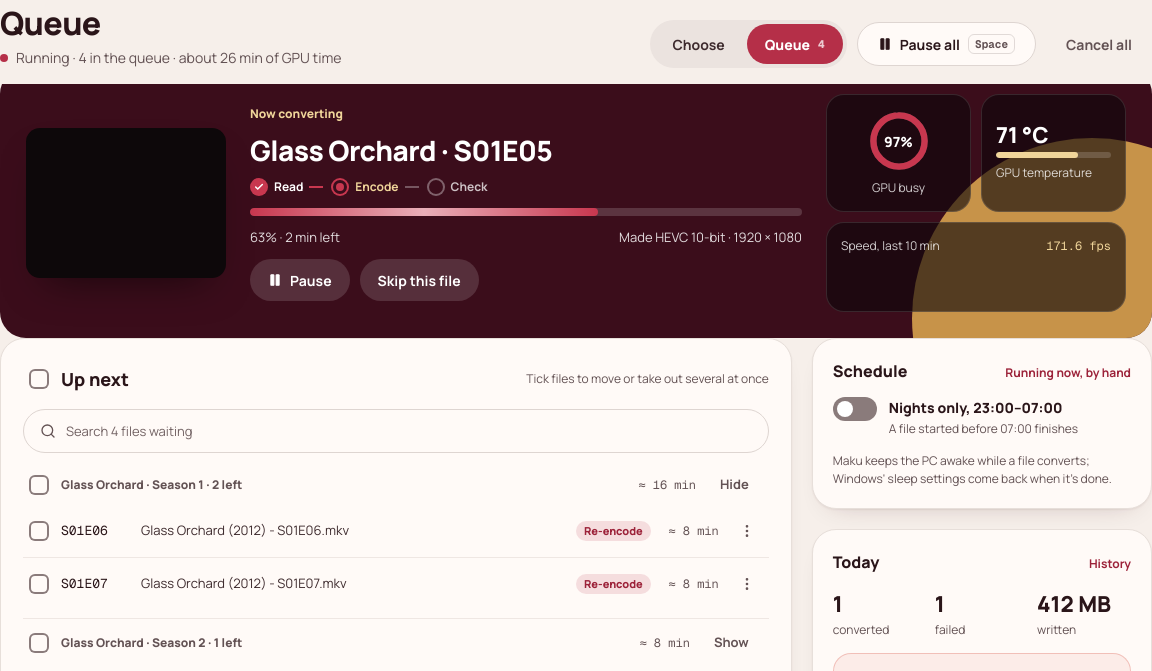
Test: QueuePage › finds files waiting by title, episode or file name, and ticks only those found
Step 1. Type "orchard s01" into the search field named "Search the queue" → [393, 431], box [66,410,720,452]
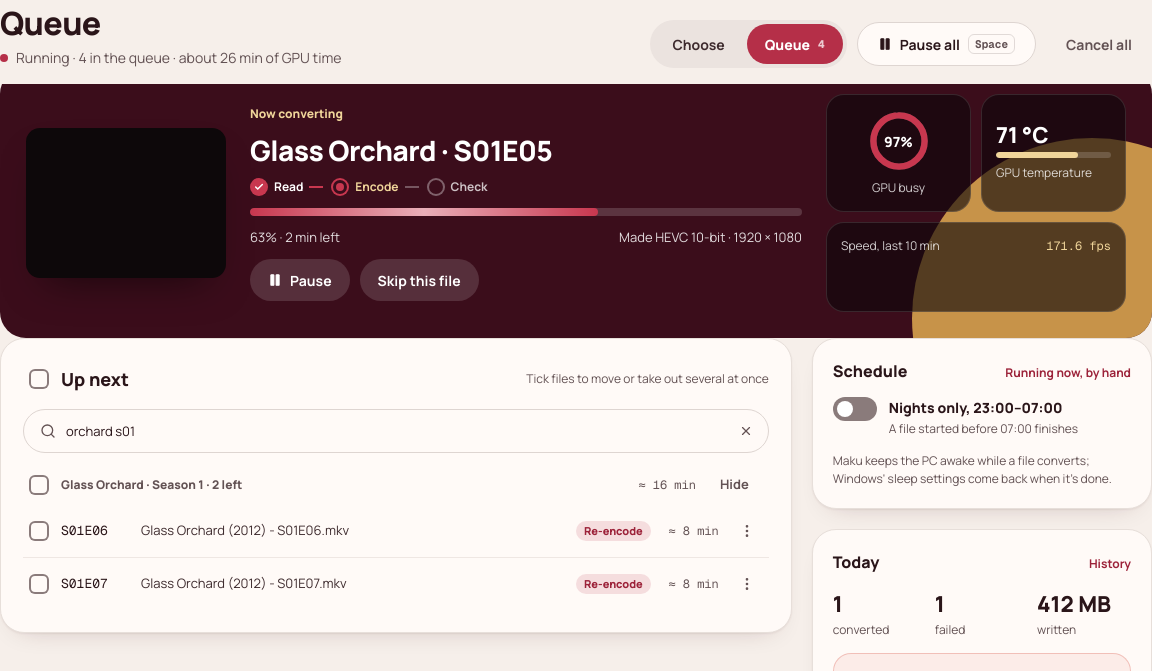
Expected: the element "Up next" shows "Glass Orchard · Season 1 · 2 left", [0,338,792,633]
Now the element "Up next" no longer shows "Season 2", box [0,338,792,633]
Now the element "Up next" no longer shows "Northern Lights", box [0,338,792,633]
Step 2. Click the checkbox named "Tick every file shown" → [39, 379], box [29,369,49,389]
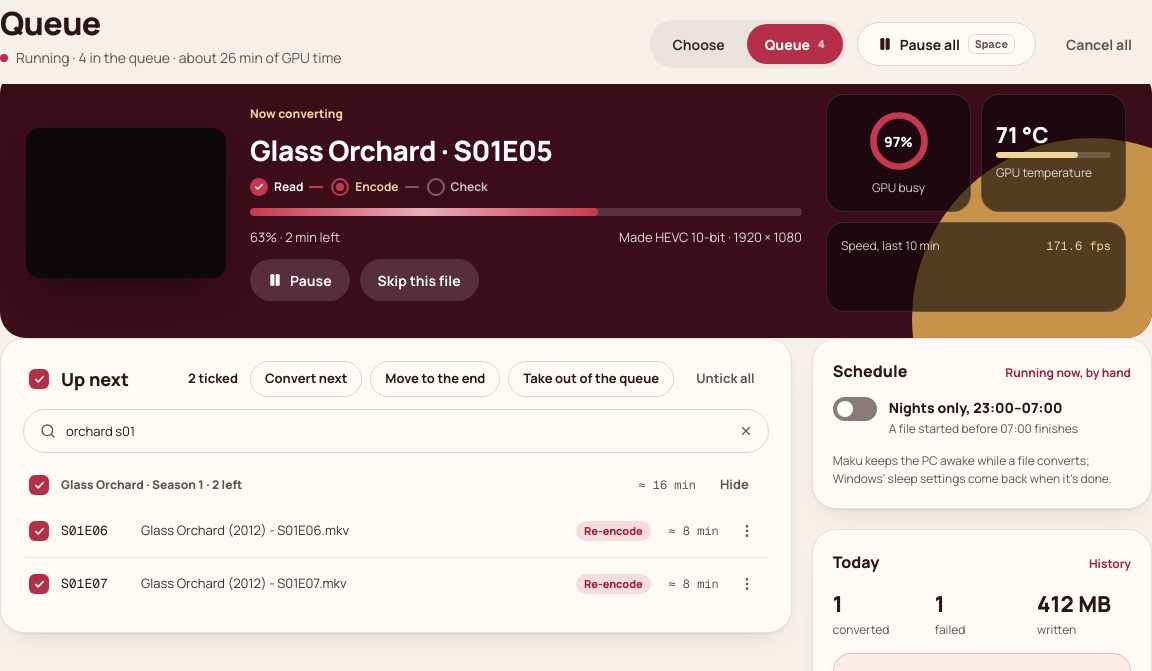
Now the text "2 ticked" is shown, box [188,369,238,389]
Step 3. Click the button "Move to the end" → [435, 379], box [370,361,500,397]
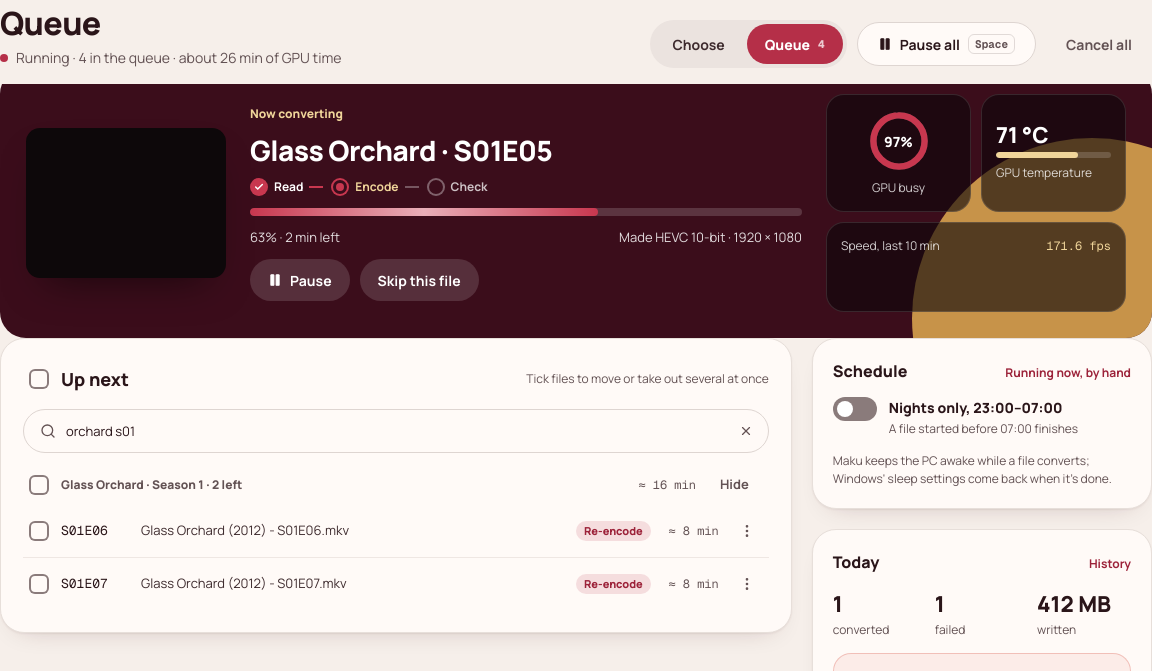
Step 4. Replace the text in the search field named "Search the queue" with "Northern Lights - 03" → [393, 431], box [66,410,720,452]
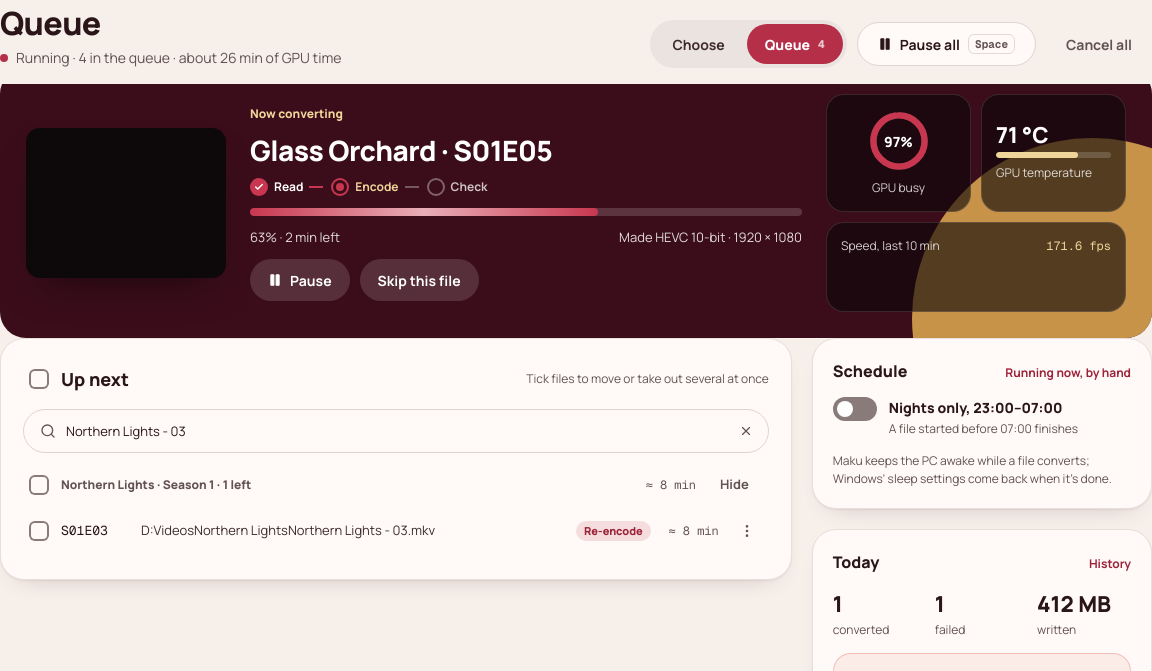
Now the text "Northern Lights · Season 1 · 1 left" is shown, box [61,476,251,494]
Step 5. Replace the text in the search field named "Search the queue" with "Vash" → [393, 431], box [66,410,720,452]
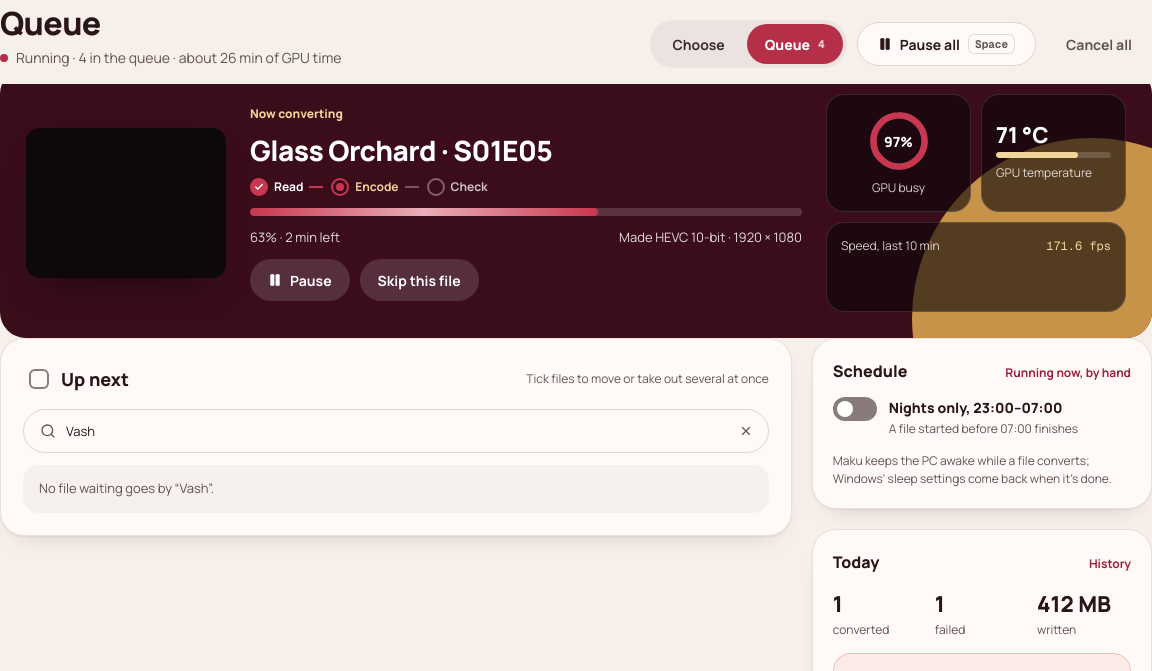
Now the message "No file waiting goes by “Vash”." is shown, box [23,465,769,513]
